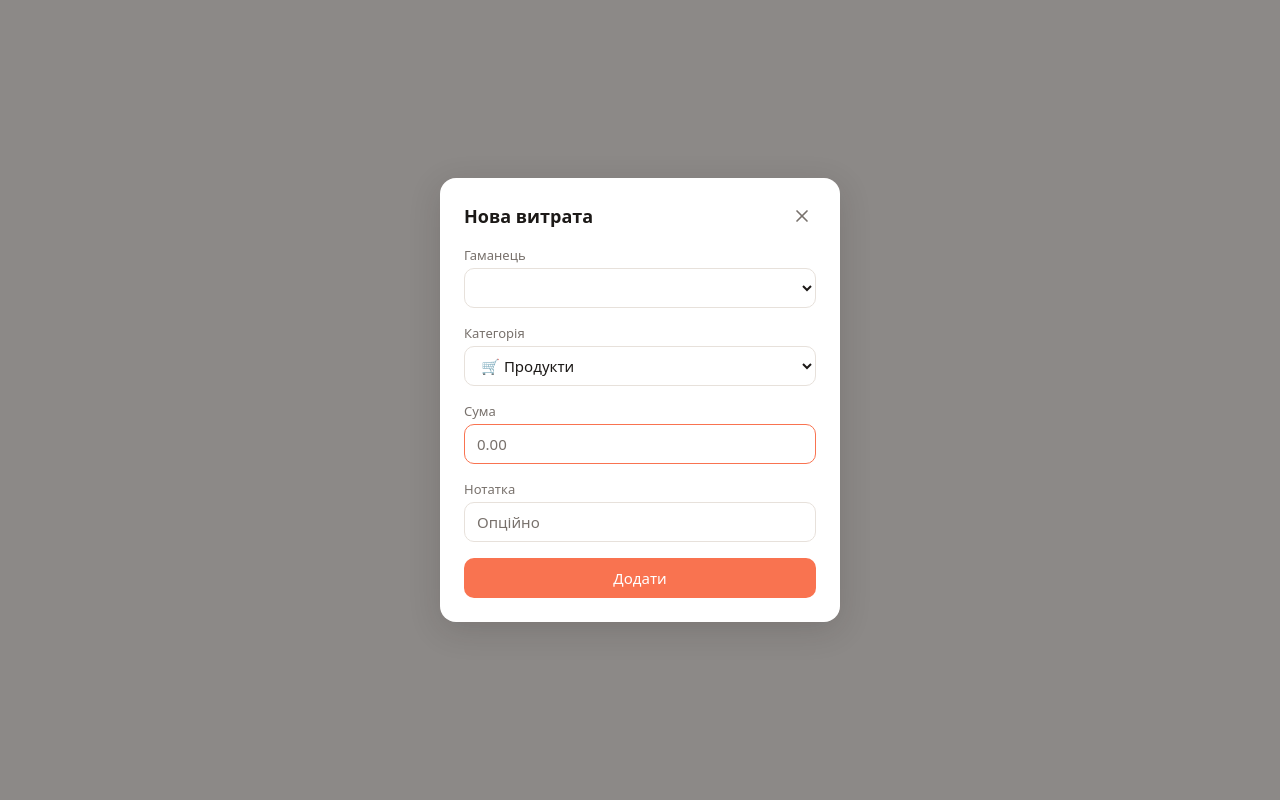
Scenario: ExpenseDialog › says a wallet is missing instead of silently ignoring the submit
This screenshot has width=1280, height=800.
Type "5" into the field labelled "Сума".
click(640, 444); type("5")  # box [464,424,816,464]
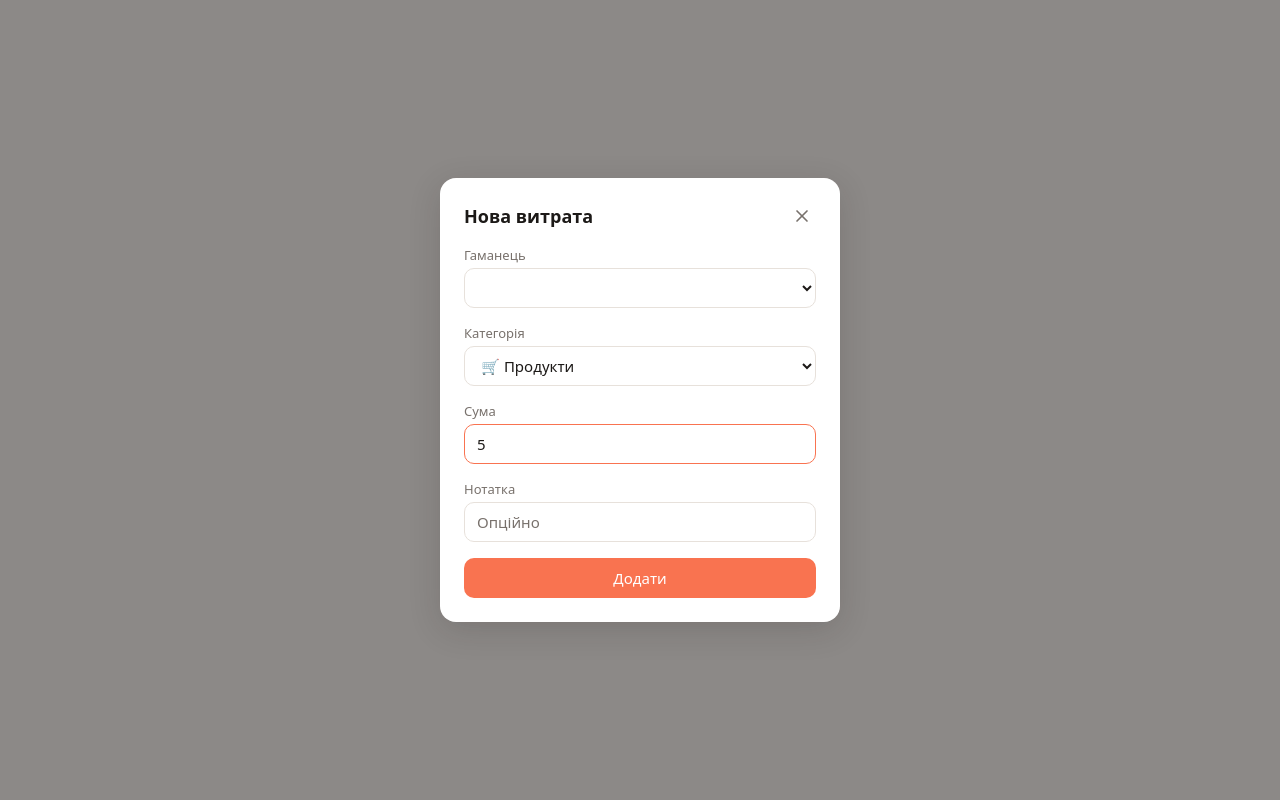
Click the button "Додати".
click(640, 578)  # box [464,558,816,598]
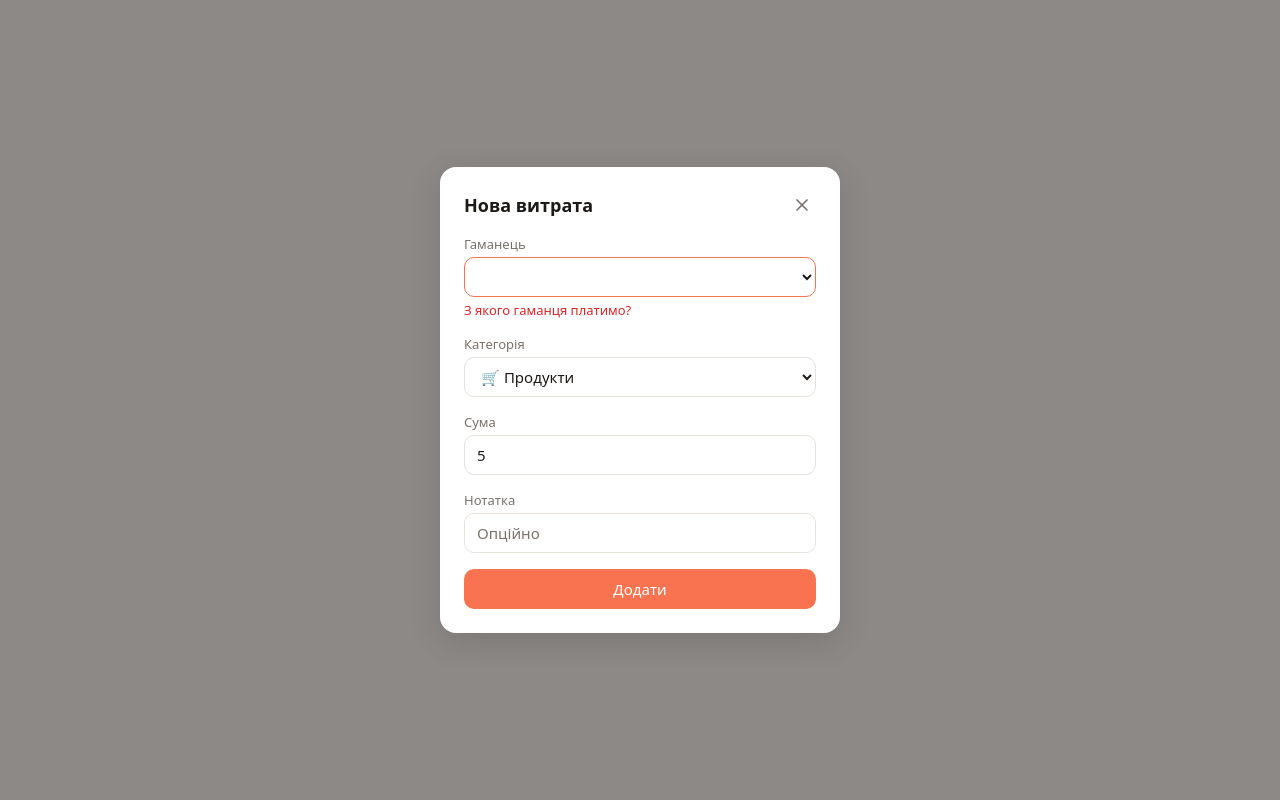
Expected: the text "З якого гаманця платимо?" is shown, [464,301,631,319]
